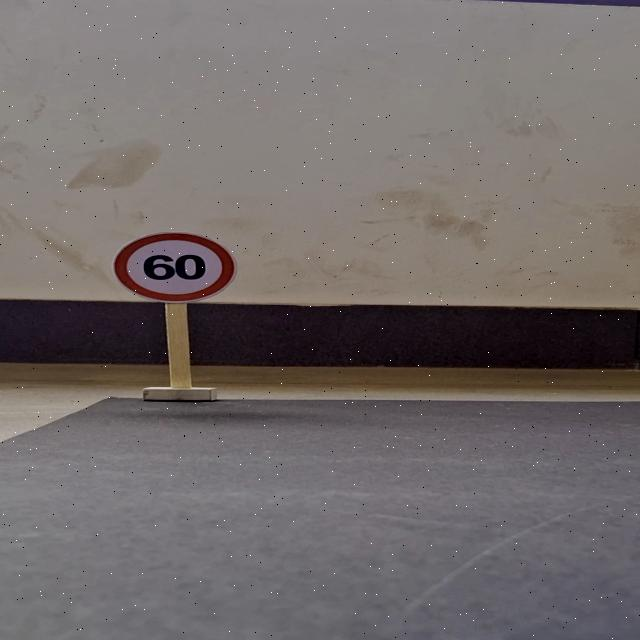Speed60: (114, 232, 236, 304)
